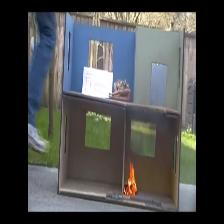fire: (124, 163, 138, 198)
